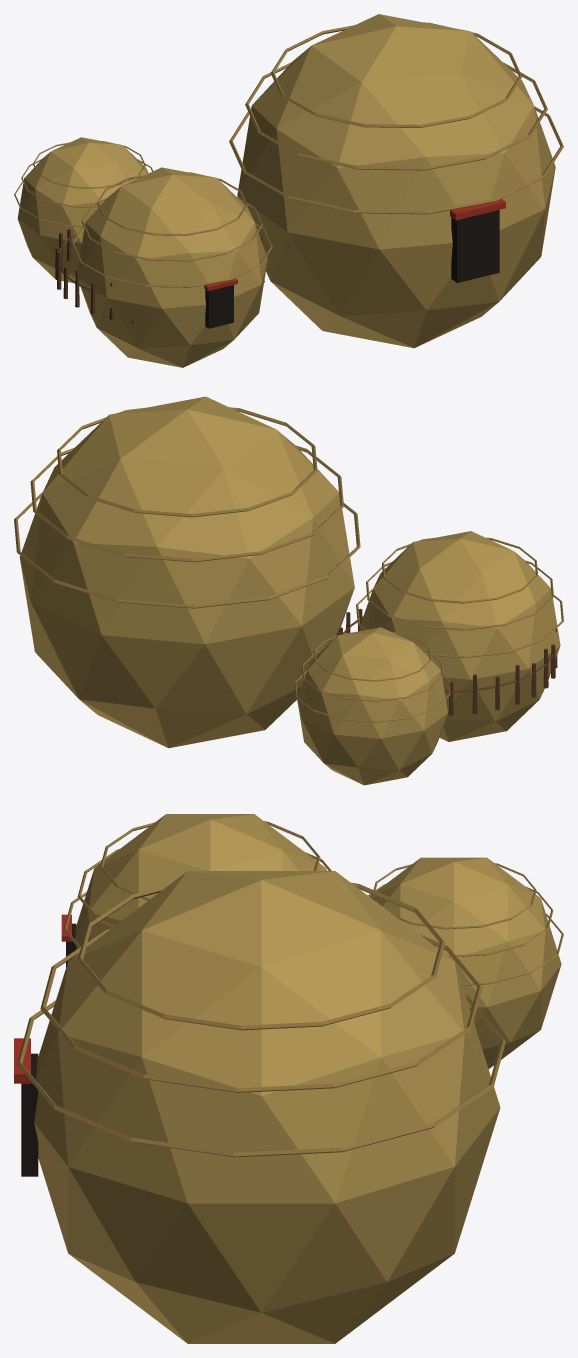
File: elephant_court_broken.glb
3 renders of one model, top to bottom at view 1: azimuth 30°, elevation 25°; view 2: azimuth 150°, elevation 25°; view 3: azimuth 270°, elevation 25°, orthographic. The views are drawn at different scales.
Visible parts, largest first — view 1: elephant_court_piece5, elephant_court_piece1, elephant_court_piece10, elephant_court_piece11, elephant_court_piece8, elephant_court_piece7, elephant_court_piece4, elephant_court_piece2, elephant_court_piece6, elephant_court_piece0, elephant_court_piece3, elephant_court_piece9; view 2: elephant_court_piece2, elephant_court_piece8, elephant_court_piece3, elephant_court_piece1, elephant_court_piece4, elephant_court_piece9, elephant_court_piece6, elephant_court_piece0, elephant_court_piece10, elephant_court_piece11; view 3: elephant_court_piece0, elephant_court_piece11, elephant_court_piece2, elephant_court_piece7, elephant_court_piece3, elephant_court_piece4, elephant_court_piece8, elephant_court_piece10, elephant_court_piece1, elephant_court_piece6.
Part boxes in pixels (bbox=[...]): elephant_court_piece5: bbox=[169, 176, 464, 367]; elephant_court_piece1: bbox=[203, 49, 453, 330]; elephant_court_piece10: bbox=[96, 171, 228, 365]; elephant_court_piece11: bbox=[349, 35, 547, 188]; elephant_court_piece8: bbox=[14, 139, 190, 298]; elephant_court_piece7: bbox=[398, 178, 548, 313]; elephant_court_piece4: bbox=[236, 24, 479, 198]; elephant_court_piece2: bbox=[232, 14, 478, 164]; elephant_court_piece6: bbox=[266, 271, 494, 348]; elephant_court_piece0: bbox=[495, 106, 563, 211]; elephant_court_piece3: bbox=[32, 25, 352, 171]; elephant_court_piece9: bbox=[75, 115, 267, 350]; elephant_court_piece2: bbox=[18, 419, 300, 716]; elephant_court_piece8: bbox=[332, 540, 551, 785]; elephant_court_piece3: bbox=[90, 469, 372, 775]; elephant_court_piece1: bbox=[196, 398, 434, 674]; elephant_court_piece4: bbox=[60, 399, 305, 716]; elephant_court_piece9: bbox=[282, 532, 556, 741]; elephant_court_piece6: bbox=[84, 674, 305, 748]; elephant_court_piece0: bbox=[14, 492, 142, 709]; elephant_court_piece10: bbox=[392, 531, 563, 731]; elephant_court_piece11: bbox=[16, 396, 338, 557]; elephant_court_piece0: bbox=[33, 1065, 473, 1304]; elephant_court_piece11: bbox=[40, 913, 436, 1128]; elephant_court_piece2: bbox=[283, 871, 501, 1193]; elephant_court_piece7: bbox=[14, 1005, 378, 1325]; elephant_court_piece3: bbox=[338, 873, 563, 1068]; elephant_court_piece4: bbox=[165, 871, 324, 1032]; elephant_court_piece8: bbox=[193, 814, 548, 939]; elephant_court_piece10: bbox=[61, 814, 256, 932]; elephant_court_piece1: bbox=[61, 870, 269, 962]; elephant_court_piece6: bbox=[98, 1275, 425, 1343].
Size of the model in its own units: 2.84 by 1.76 by 1.93.
